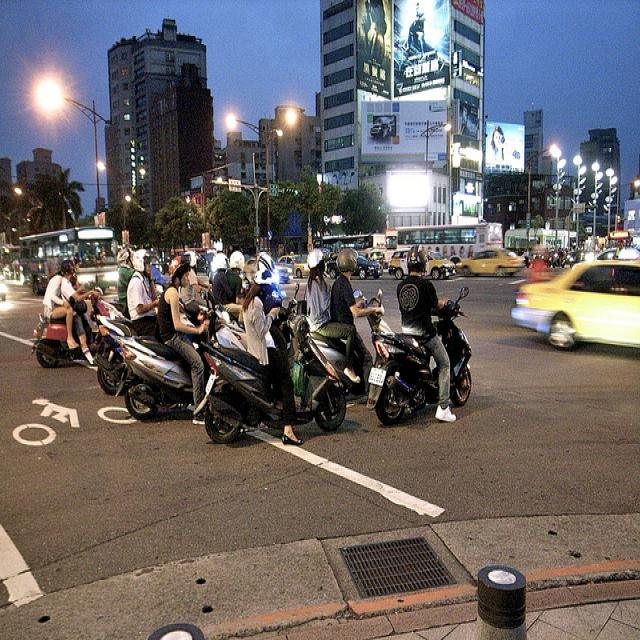motor: (194, 281, 348, 444), (367, 285, 473, 425), (310, 285, 397, 397), (112, 337, 193, 423), (88, 312, 136, 392), (30, 311, 82, 369), (473, 251, 570, 275), (205, 304, 250, 352), (276, 297, 296, 360), (180, 287, 209, 327), (95, 299, 134, 326), (151, 266, 168, 299)
